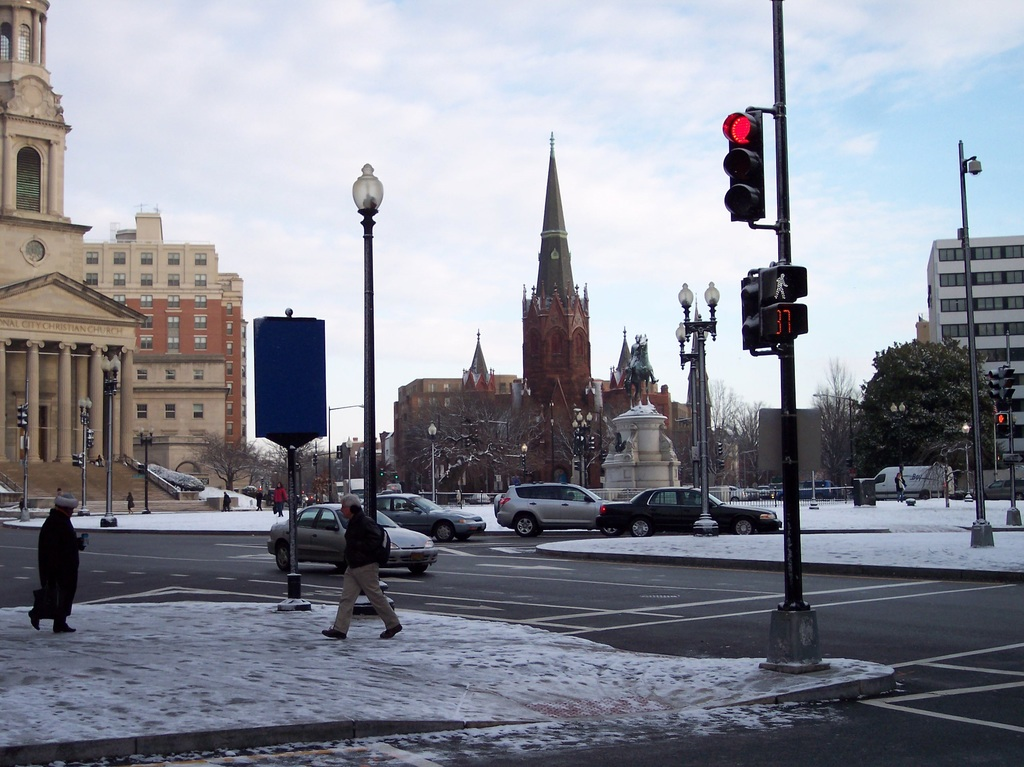red_light: (727, 113, 762, 217)
